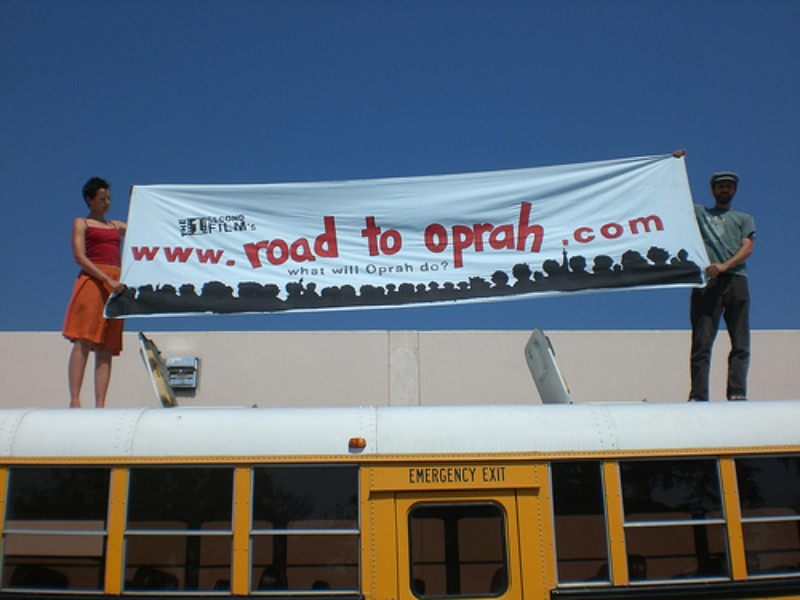car: (1, 400, 800, 600)
person: (688, 171, 756, 403), (62, 177, 126, 408)
